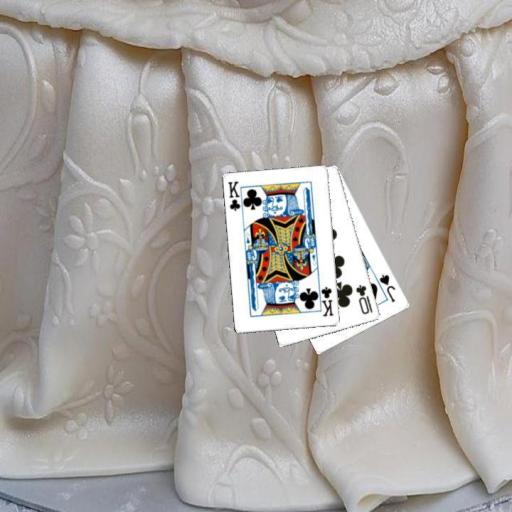card-corner: (226, 178, 246, 216), (315, 281, 335, 318), (353, 282, 374, 316), (376, 272, 397, 304)
